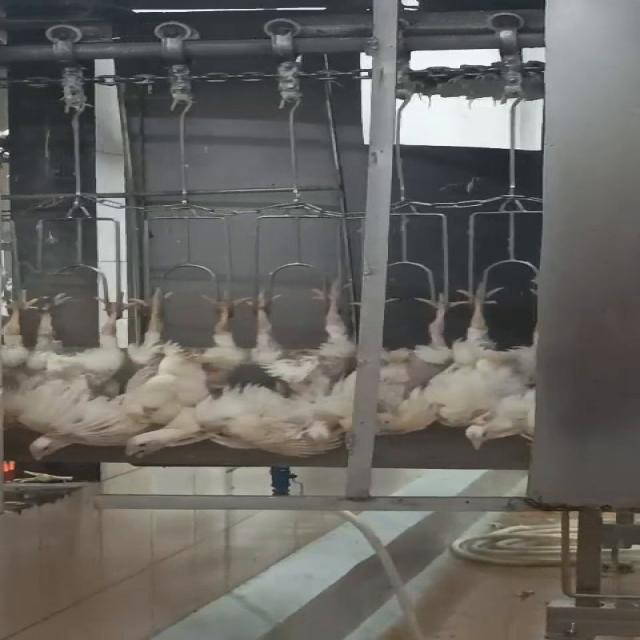chicken: (233, 278, 368, 460), (125, 290, 262, 466), (0, 286, 133, 463), (457, 279, 571, 457), (379, 283, 464, 441)
